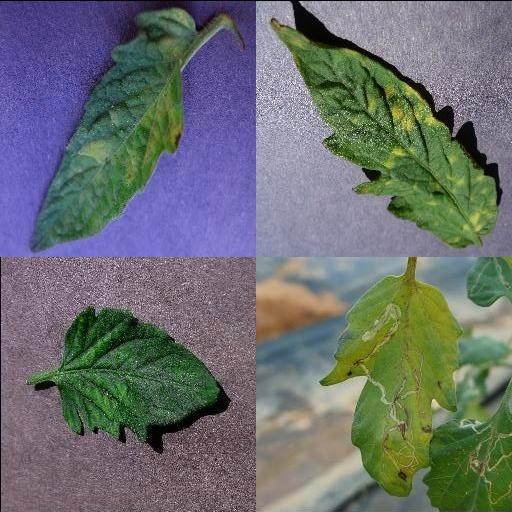Leaf Miner: (318, 275, 464, 497)
Leaf Mold: (270, 16, 498, 248), (30, 6, 200, 252)
Mosaic Virus: (56, 305, 222, 443)
